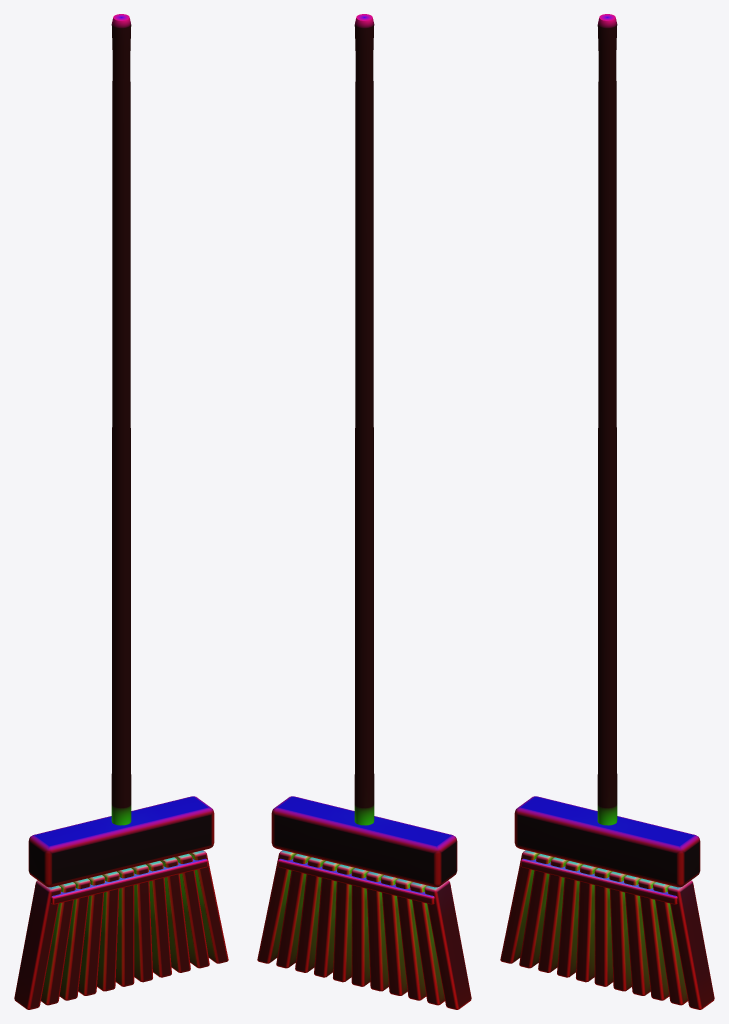
The model's file is prop_broom.fbx.
3 views of the same model, side by side, from view 1: azimuth 30°, elevation 25°; view 2: azimuth 150°, elevation 25°; view 3: azimuth 330°, elevation 25° (orthographic).
Parts seen in each view (by area): view 1: prop_broom; view 2: prop_broom; view 3: prop_broom.
Boxes of the visible parts, x1,y1,x2,y2 form: prop_broom: [14, 14, 228, 1009]; prop_broom: [257, 14, 471, 1009]; prop_broom: [500, 14, 714, 1009].
Bounding box in the file's own units: 0.3097 × 1.41 × 0.055.
